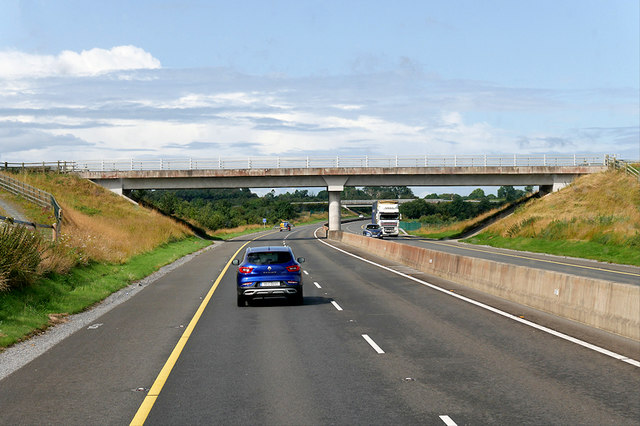bridge: (75, 152, 600, 190)
